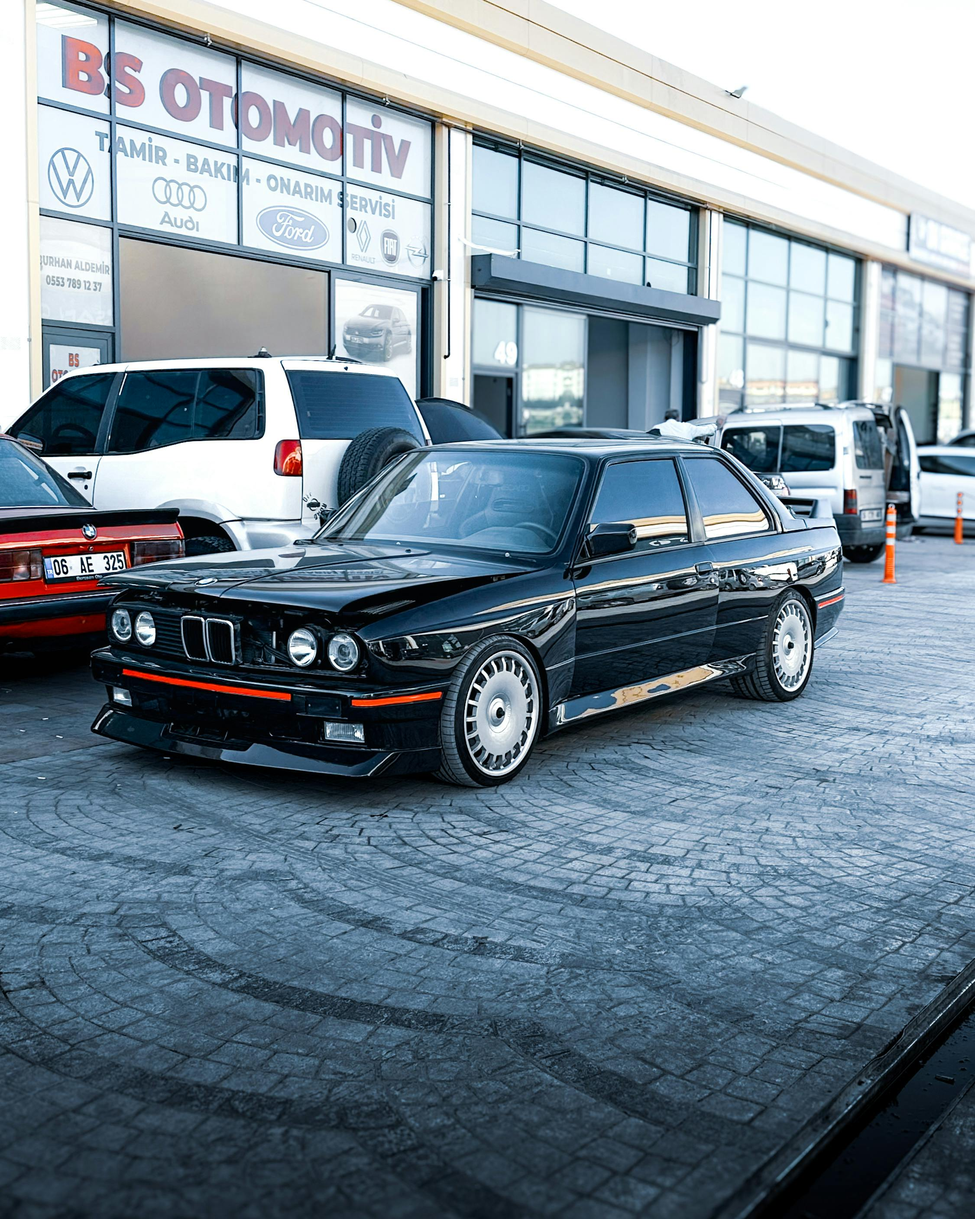other: (102, 434, 847, 778), (4, 354, 442, 584), (0, 419, 199, 639), (717, 396, 925, 558)
